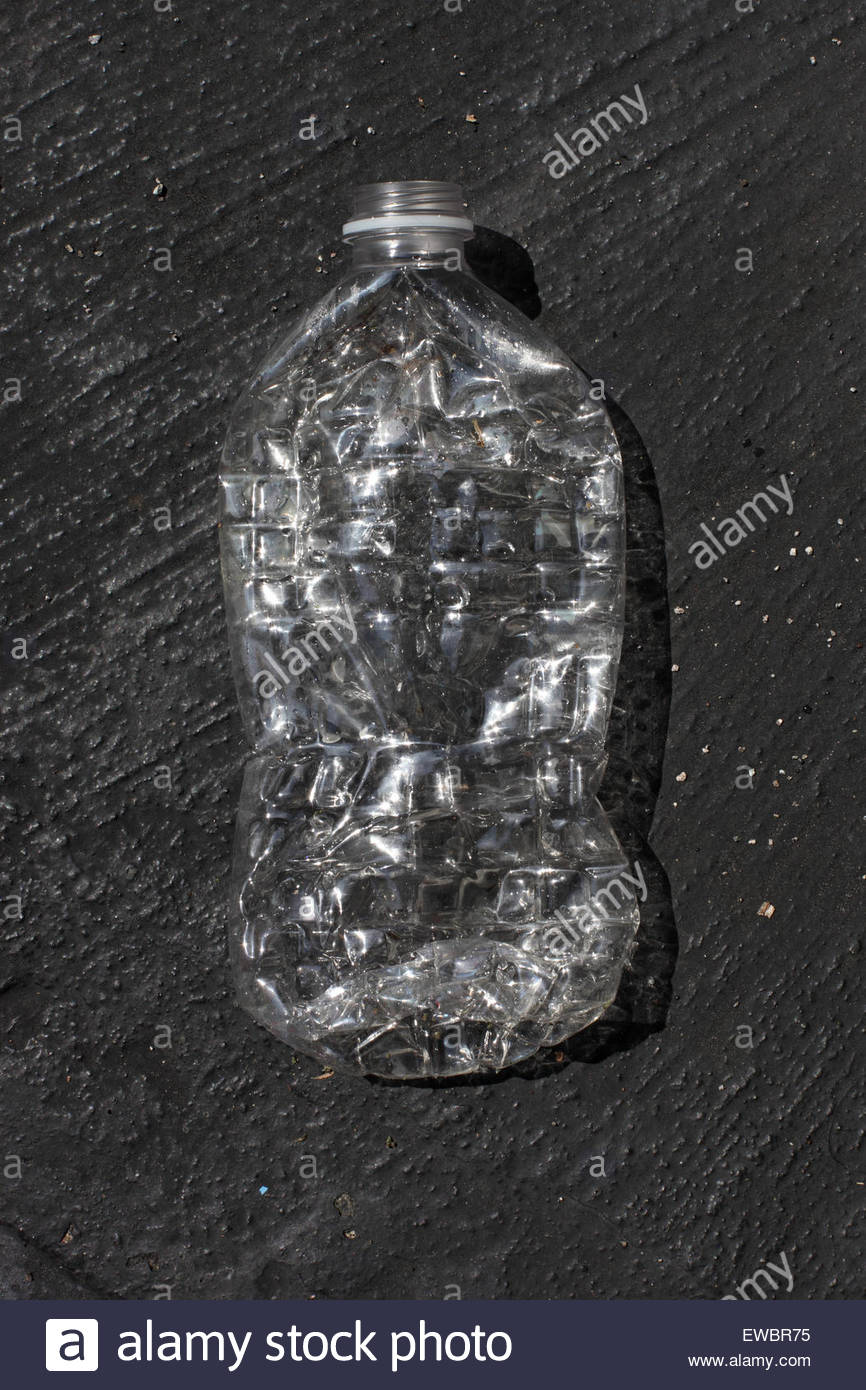bottle: (211, 178, 640, 1084)
